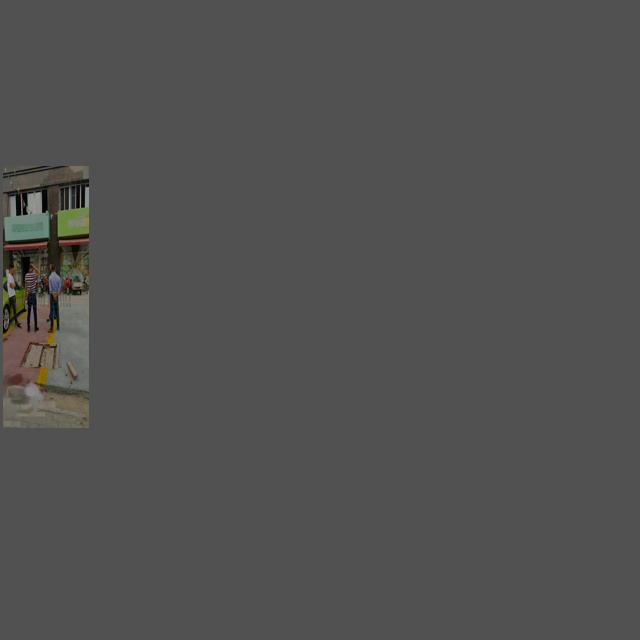circle: (21, 342, 59, 370)
